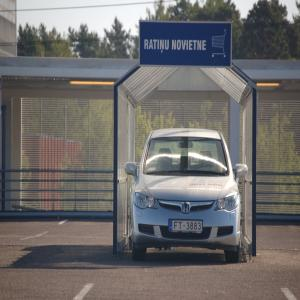Vehicle-registration-plate: (171, 222, 203, 234)
